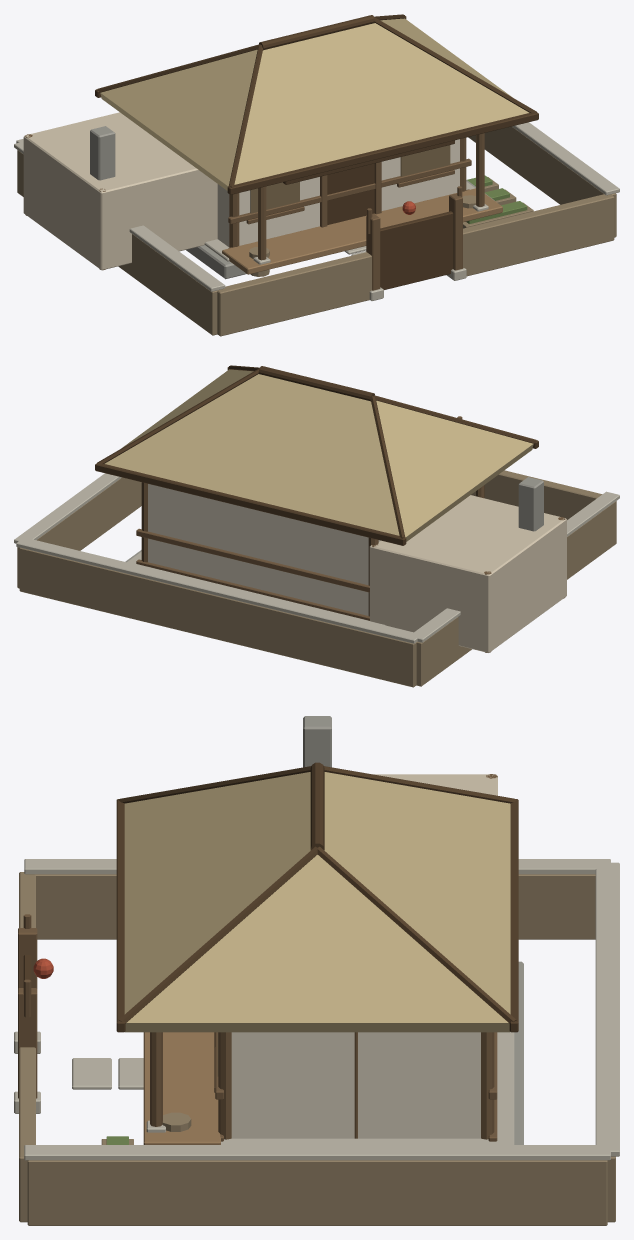
Rendered from hanjin_house_thatch.glb.
3 views of the same model, one above another, from view 1: azimuth 30°, elevation 25°; view 2: azimuth 150°, elevation 25°; view 3: azimuth 270°, elevation 25° (orthographic). The views are drawn at different scales.
Parts seen in each view (by area): view 1: HanjinHouse_thatch; view 2: HanjinHouse_thatch; view 3: HanjinHouse_thatch.
Part boxes in pixels (box(x1,y1,x2,y2)): HanjinHouse_thatch: box(14, 14, 619, 336); HanjinHouse_thatch: box(14, 365, 619, 687); HanjinHouse_thatch: box(14, 716, 619, 1225).
Bounding box in the file's own units: 11.64 × 4.74 × 9.4.
